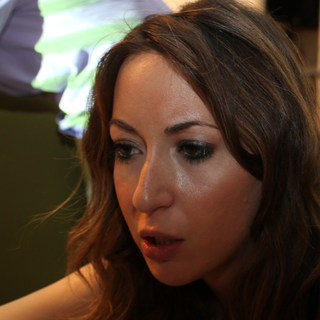eye: (173, 139, 219, 165), (108, 139, 145, 165)
